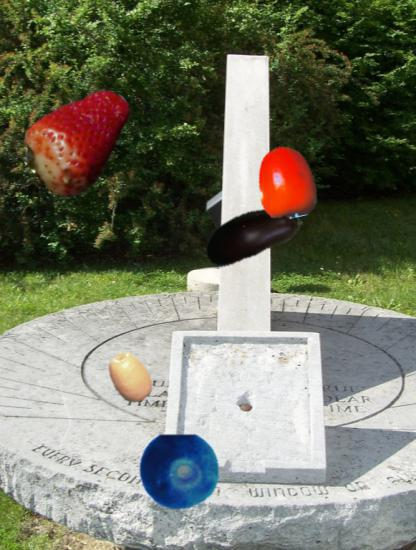Eggplant: (201, 184, 304, 287)
Huckleberry: (139, 431, 221, 513)
Kaki: (249, 145, 324, 220)
Kumquats: (104, 351, 157, 404)
Strawberry: (22, 79, 140, 197)
